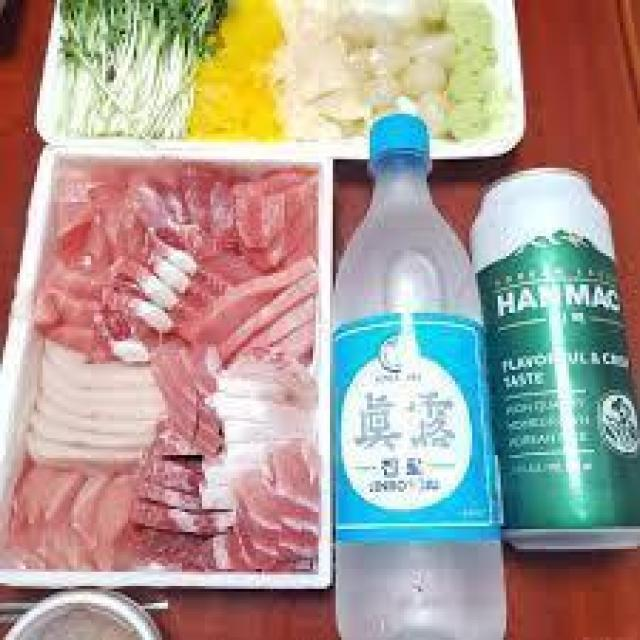beer-can: (470, 158, 640, 556)
soju-bottle: (330, 114, 500, 640)
